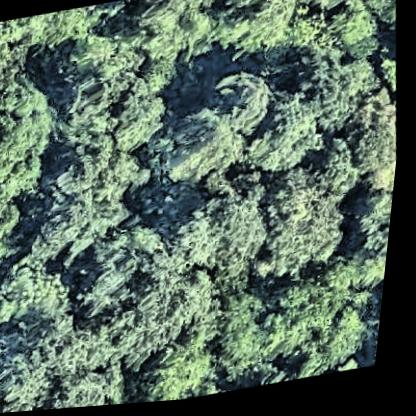tree-top: (216, 275, 378, 396), (0, 46, 74, 271), (78, 222, 207, 342), (0, 305, 138, 415), (253, 157, 354, 289), (40, 144, 156, 254), (59, 60, 181, 164), (176, 177, 285, 286), (149, 99, 256, 192), (294, 35, 387, 126), (0, 242, 88, 328), (340, 90, 407, 199), (246, 94, 331, 178), (137, 331, 229, 406), (0, 4, 105, 66), (130, 0, 221, 68), (211, 0, 299, 60), (347, 192, 398, 267)
